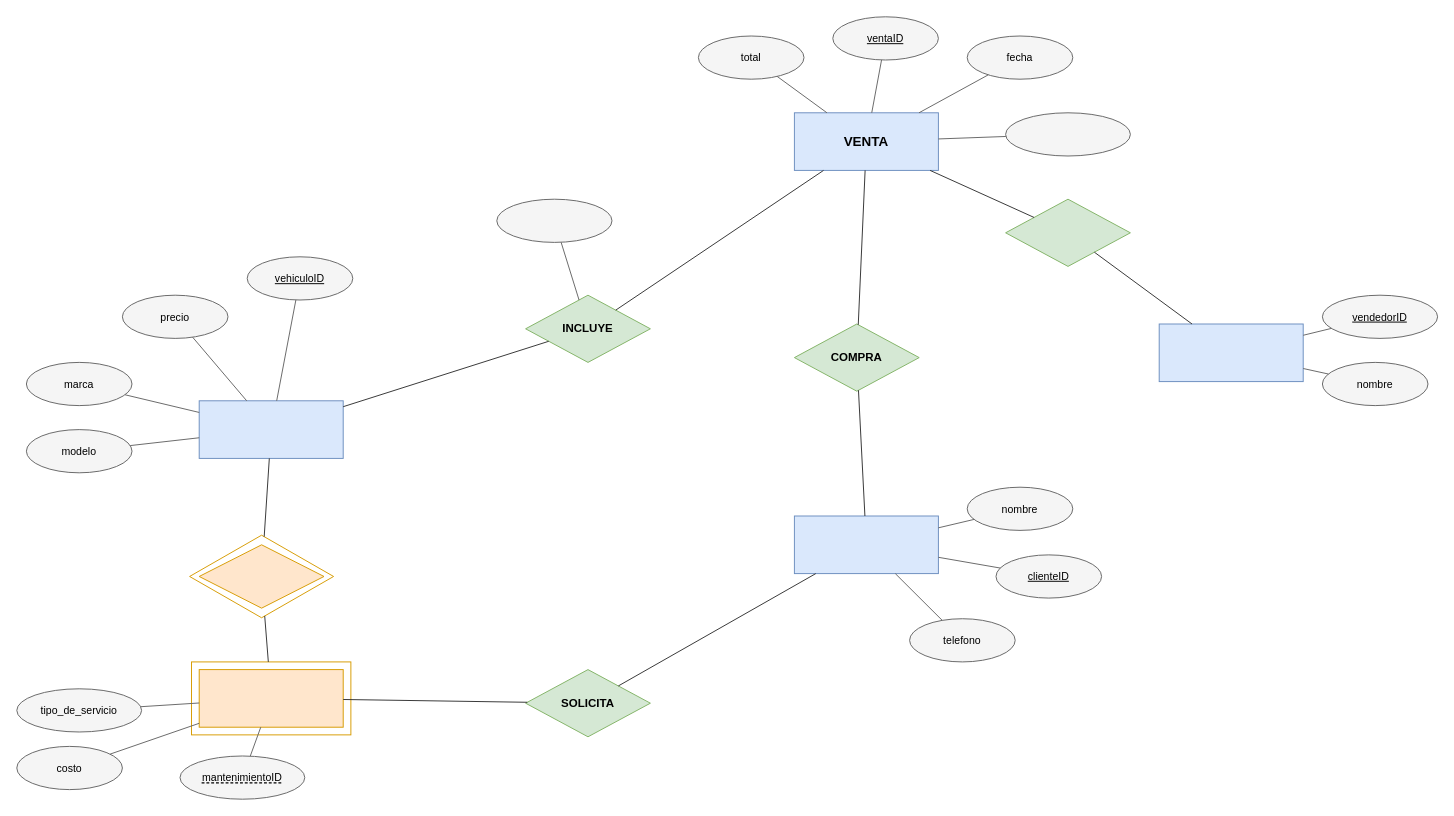
This 1454x816 diagram has some shape labels left out. The centre of each missing label's shape, as x and y in pixels:
CLIENTE: point 865,544
MANTENIMIENTO: point 270,698
metodo_de_pago: point 1067,134
precio_venta: point 554,220
RECIBE: point 261,576
VEHICULO: point 270,429
VENDE: point 1067,232
VENDEDOR: point 1230,352
